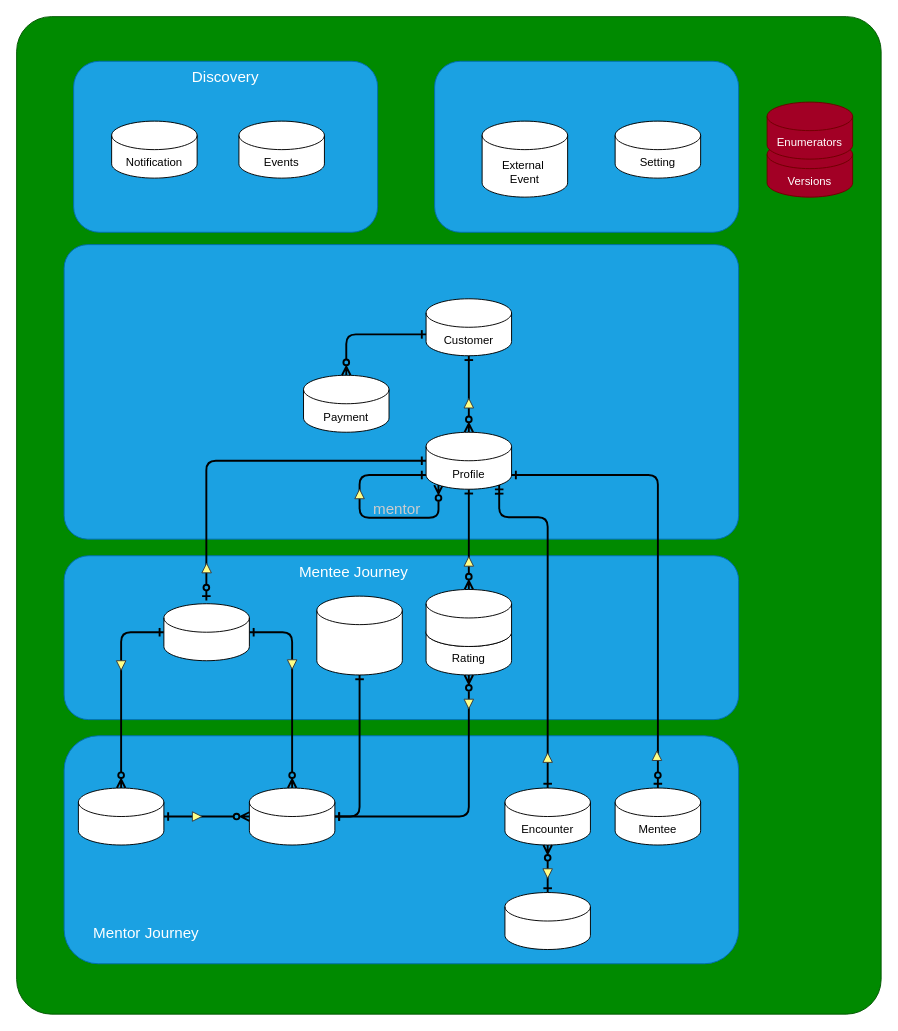
Some shapes in this 898 by 1031 pixel diagram are drawn without their labels. The box of each missing label's shape, as (x1, y1, x2, y2) in pixels:
Admin Journey: (434, 60, 739, 232)
Customer Journey: (63, 244, 739, 539)
Journey: (163, 603, 249, 661)
Note: (425, 589, 512, 646)
Path: (77, 787, 164, 845)
Plan: (504, 892, 590, 950)
Resource: (248, 787, 335, 845)
Resource Aggregation: (316, 595, 402, 675)
